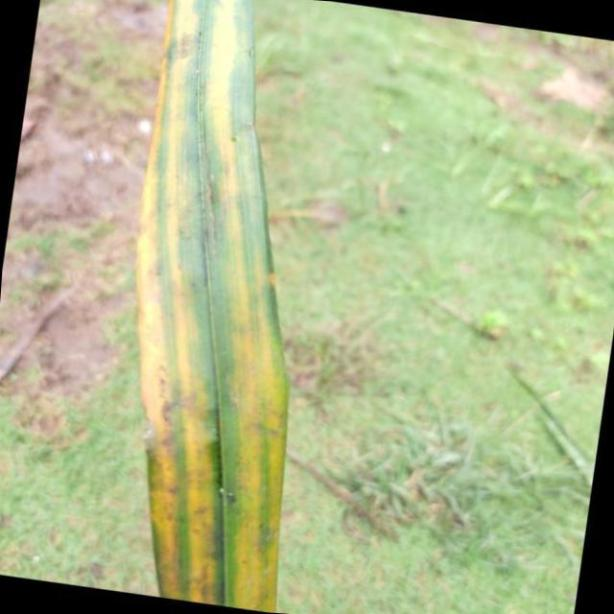Megnesium: (134, 0, 288, 614)
